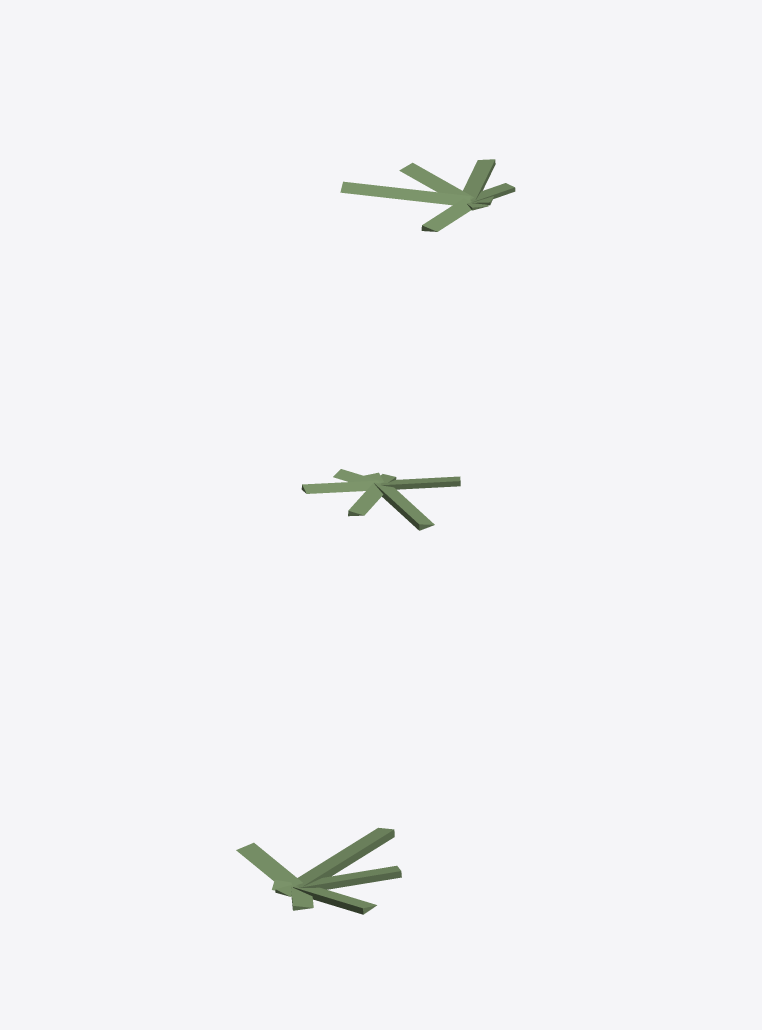
File: shui.pingpeng@subadult__bloom.glb
3 views of the same model, one above another, from view 1: azimuth 30°, elevation 25°; view 2: azimuth 150°, elevation 25°; view 3: azimuth 270°, elevation 25° (orthographic). The views are drawn at different scales.
Visible parts, largest first — view 1: shui.pingpeng@subadult__bloom; view 2: shui.pingpeng@subadult__bloom; view 3: shui.pingpeng@subadult__bloom.
Boxes of the visible parts, x1,y1,x2,y2 form: shui.pingpeng@subadult__bloom: [340, 159, 515, 231]; shui.pingpeng@subadult__bloom: [301, 469, 460, 530]; shui.pingpeng@subadult__bloom: [236, 827, 401, 914].
Bounding box in the file's own units: 0.7031 × 0.0266 × 0.6338.
